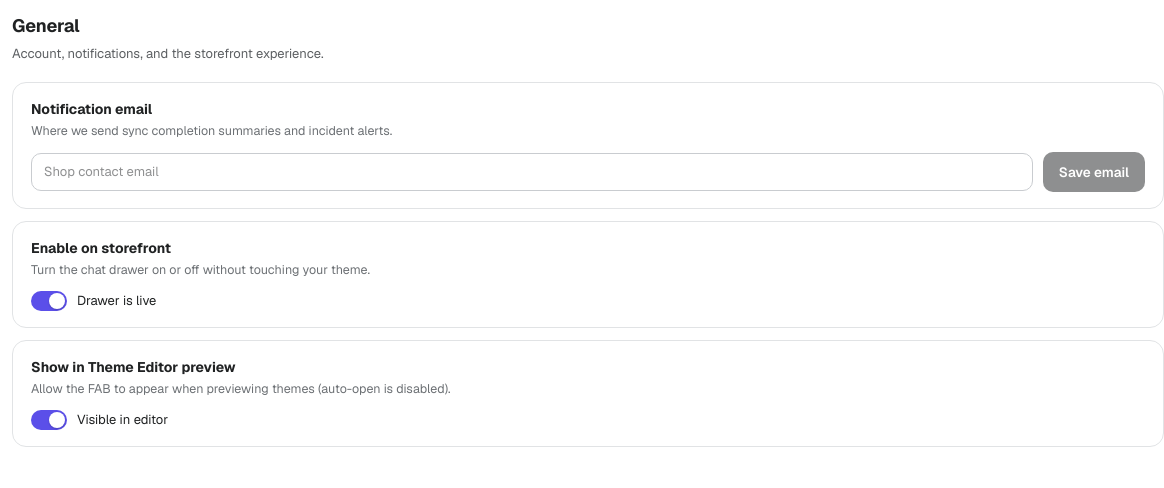
Test case: GeneralSection — notification email › shows the API error code inline on a failed save
The width and height of the screenshot is (1164, 488).
Type "not-an-email" into the field named "Notification email".
click(532, 172); type("not-an-email")  # box left=31, top=153, right=1033, bottom=190
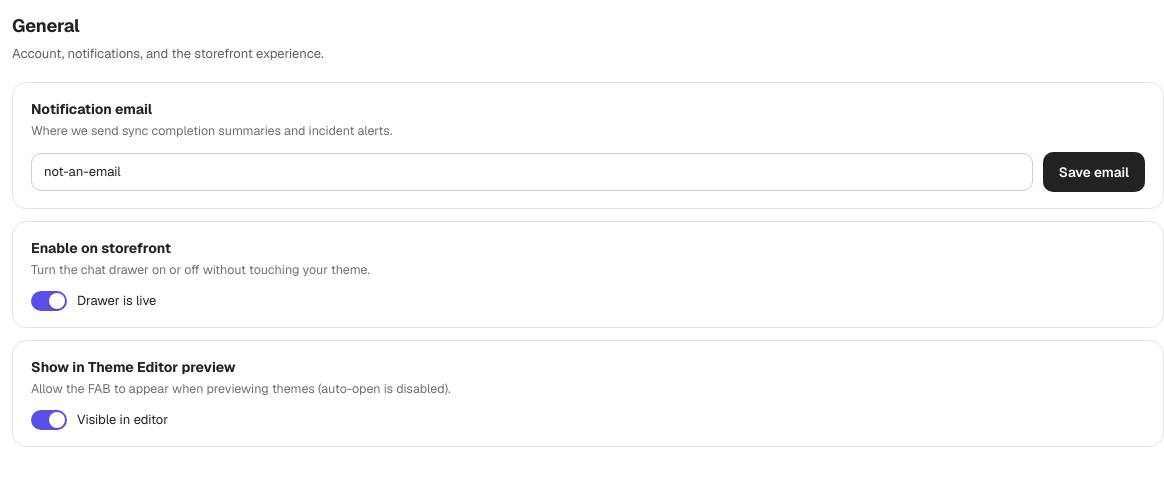
Click the button "Save email".
click(1094, 172)  # box left=1043, top=152, right=1145, bottom=192
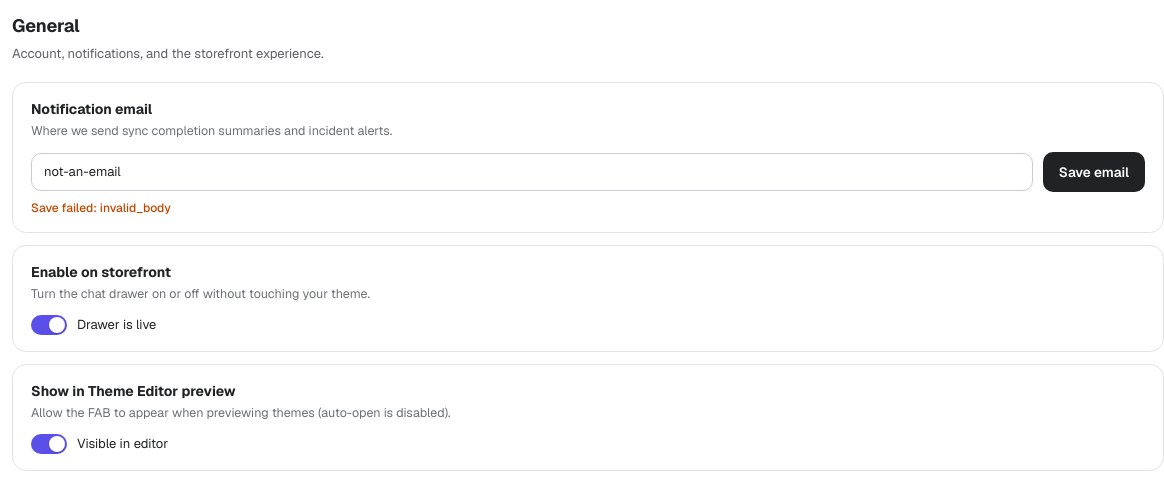
Result: the message shows "invalid_body" at left=100, top=200, right=171, bottom=216
